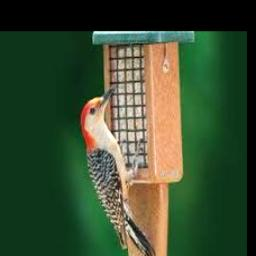Woodpecker: (81, 84, 155, 256)
